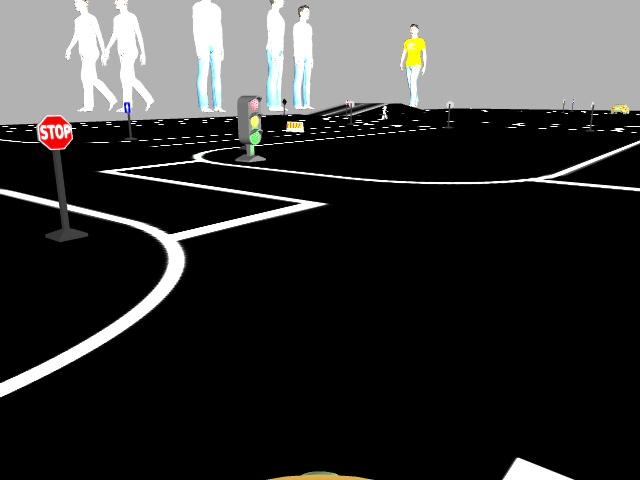ClosedRoadStand: (286, 121, 302, 133)
OneWay: (121, 102, 130, 112)
Stop: (35, 116, 72, 150)
TrafficLight: (237, 96, 260, 144)
